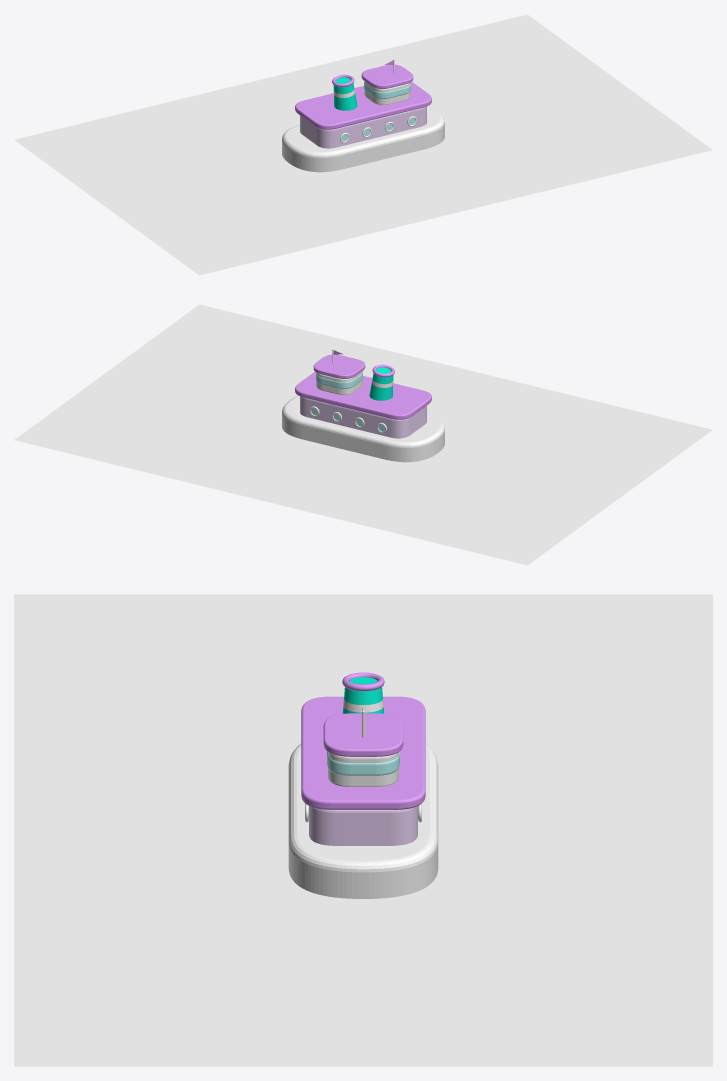
The model's file is gag-ferry.glb.
The picture shows the model from 3 angles, top to bottom: view 1: azimuth 30°, elevation 25°; view 2: azimuth 150°, elevation 25°; view 3: azimuth 270°, elevation 25°; orthographic projection. The views are drawn at different scales.
Visible parts, largest first — view 1: GAG_Ferry, group_0, group_25; view 2: GAG_Ferry, group_0, group_25; view 3: GAG_Ferry, group_0, group_25.
Part boxes in pixels (box(x1,y1,x2,y2)): GAG_Ferry: box(14, 14, 712, 275); group_0: box(282, 59, 444, 172); group_25: box(332, 74, 357, 110); GAG_Ferry: box(14, 304, 712, 565); group_0: box(282, 349, 444, 462); group_25: box(369, 364, 394, 400); GAG_Ferry: box(14, 594, 712, 1066); group_0: box(288, 696, 438, 898); group_25: box(342, 672, 384, 713).
Bounding box in the file's own units: 16 × 2.69 × 10.
